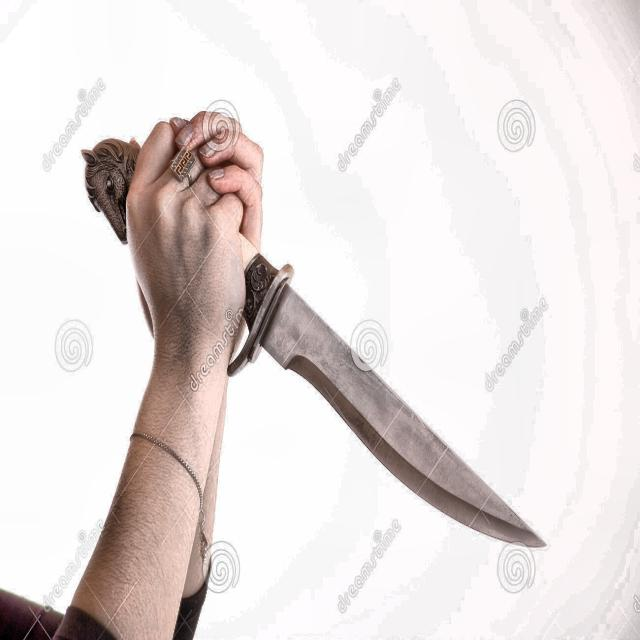knife: (83, 140, 545, 553)
